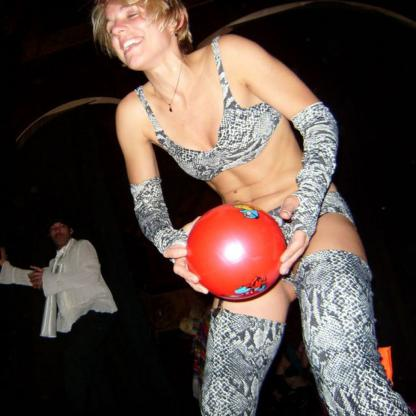Ball: (186, 203, 283, 300)
